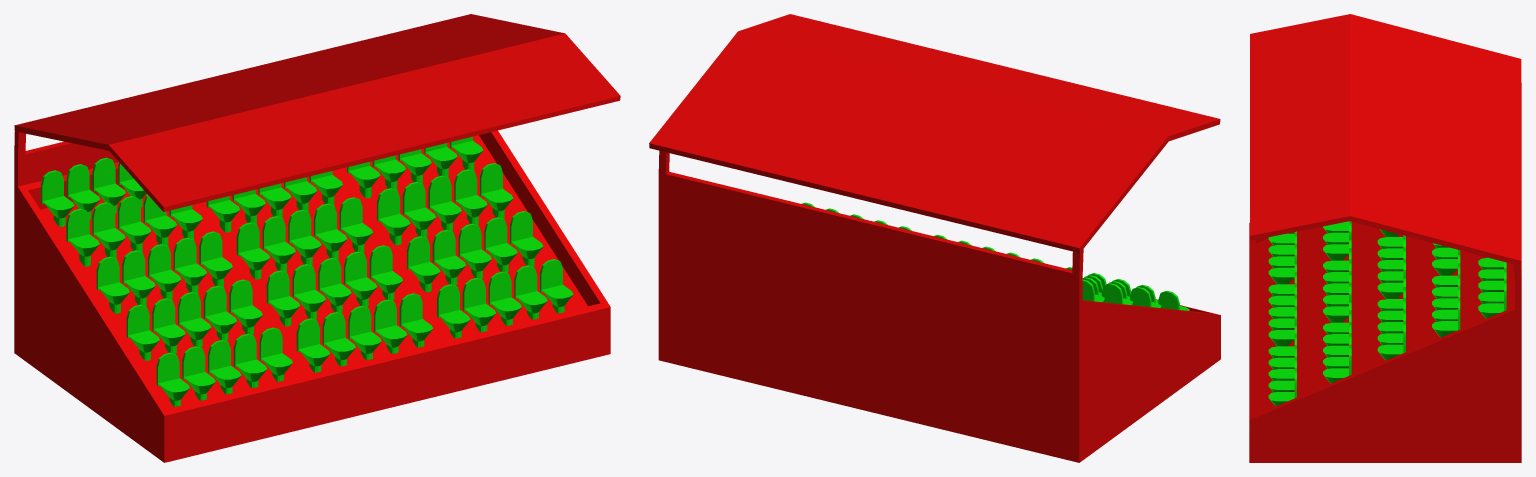
Rendered from Stadium.fbx.
3 views of the same model, side by side, from view 1: azimuth 30°, elevation 25°; view 2: azimuth 150°, elevation 25°; view 3: azimuth 270°, elevation 25° (orthographic). The views are drawn at different scales.
Parts seen in each view (by area): view 1: Stadium; view 2: Stadium; view 3: Stadium.
Boxes of the visible parts, x1,y1,x2,y2 form: Stadium: (14, 14, 620, 462); Stadium: (649, 14, 1220, 462); Stadium: (1249, 14, 1521, 462).
Size of the model in its own units: 1561 by 906 by 889.
